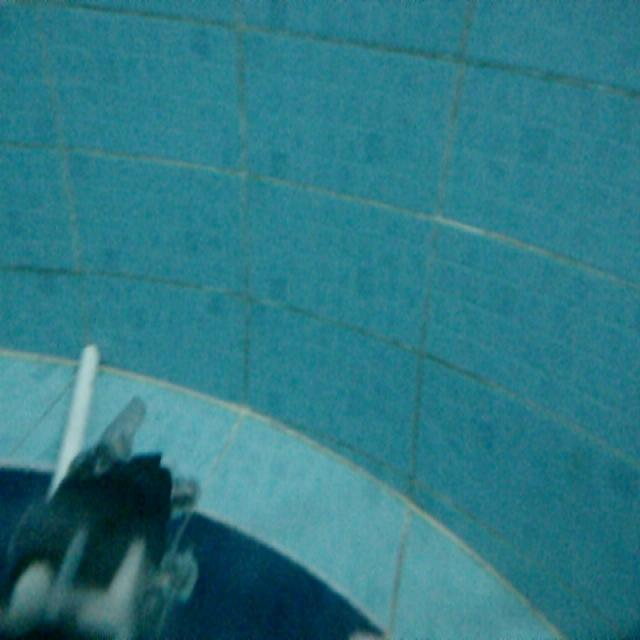Cube: (42, 337, 102, 503)
